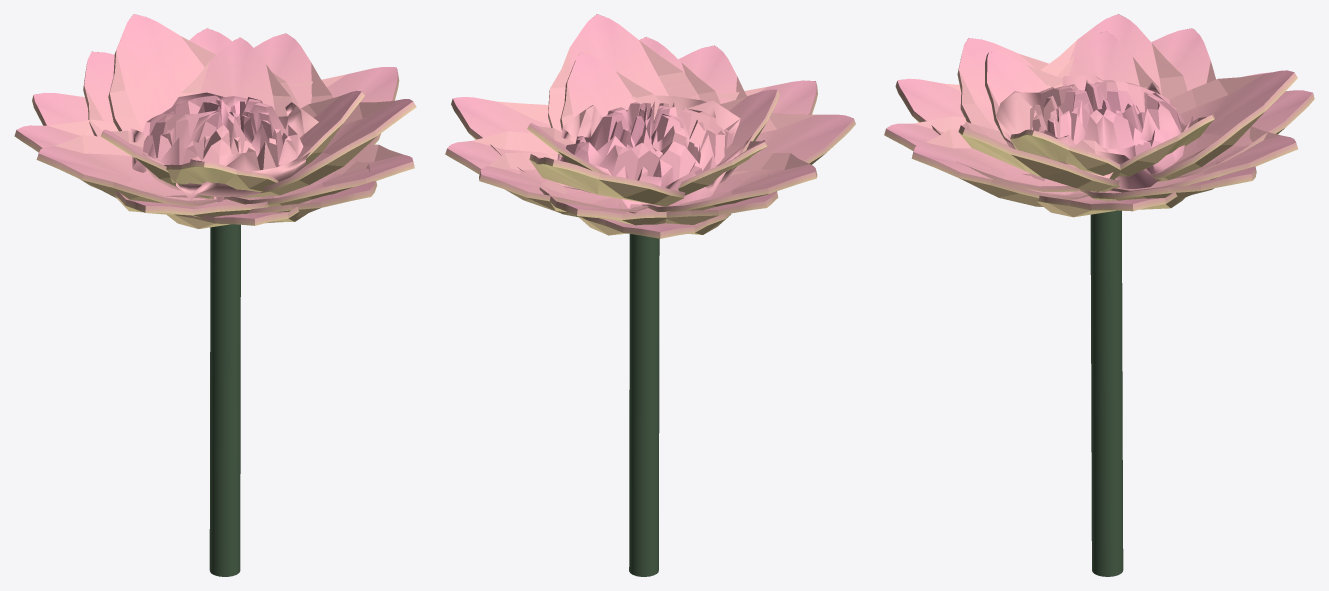
Rendered from dahlia.obj.
The picture shows the model from 3 angles, left to right: view 1: azimuth 30°, elevation 25°; view 2: azimuth 150°, elevation 25°; view 3: azimuth 270°, elevation 25°; orthographic projection. The views are drawn at different scales.
Parts seen in each view (by area): view 1: petals head dahlia, head dahlia centre, dahlia stem; view 2: petals head dahlia, head dahlia centre, dahlia stem; view 3: petals head dahlia, head dahlia centre, dahlia stem.
Boxes of the visible parts, x1,y1,x2,y2 form: petals head dahlia: (14,14,416,228); head dahlia centre: (131,92,318,202); dahlia stem: (209,224,240,576); petals head dahlia: (445,14,855,238); head dahlia centre: (557,95,746,208); dahlia stem: (629,234,659,576); petals head dahlia: (884,14,1314,217); head dahlia centre: (996,74,1192,191); dahlia stem: (1090,210,1123,576).
Bounding box in the file's own units: 3.12 × 3.97 × 3.09.
Materials: 2 (1 with a texture image).
